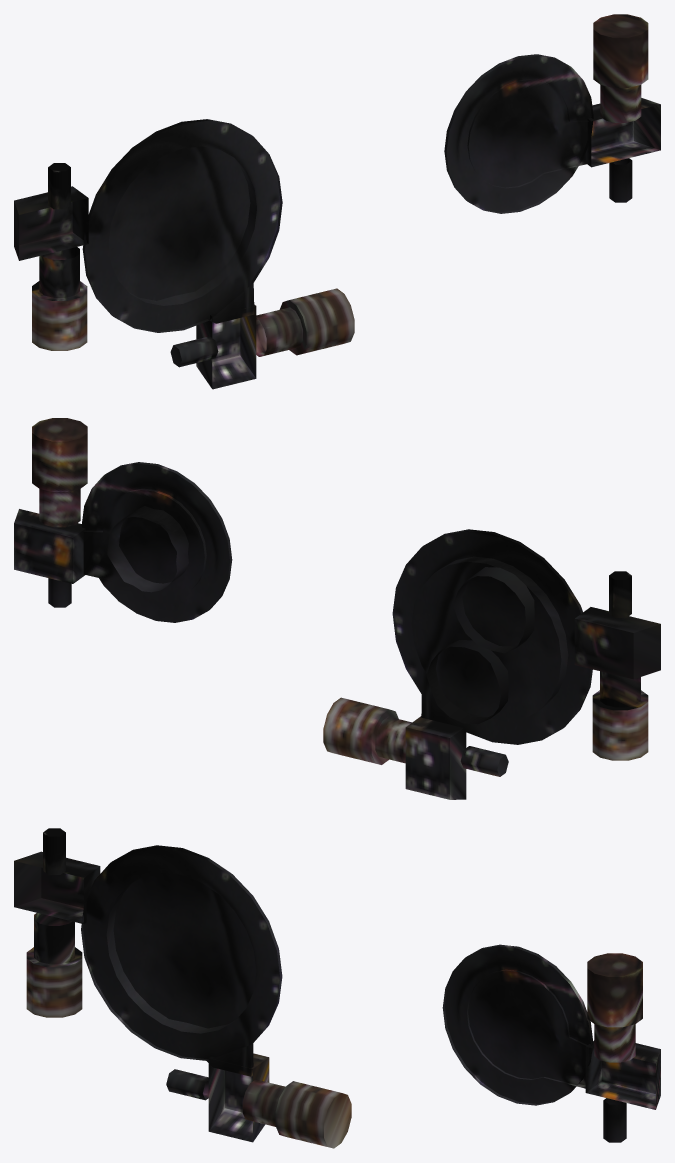
File: sam_chemin.obj
The picture shows the model from 3 angles, top to bottom: view 1: azimuth 30°, elevation 25°; view 2: azimuth 150°, elevation 25°; view 3: azimuth 330°, elevation 25°; orthographic projection.
Parts seen in each view (by area): view 1: CheMin_CheMin_Mesh.000; view 2: CheMin_CheMin_Mesh.000; view 3: CheMin_CheMin_Mesh.000.
Part boxes in pixels (x1=…): CheMin_CheMin_Mesh.000: x1=14, y1=14, x2=660, y2=389; CheMin_CheMin_Mesh.000: x1=14, y1=418, x2=660, y2=799; CheMin_CheMin_Mesh.000: x1=14, y1=828, x2=660, y2=1148.
Bounding box in the file's own units: 0.5808 × 0.2367 × 0.0531.
